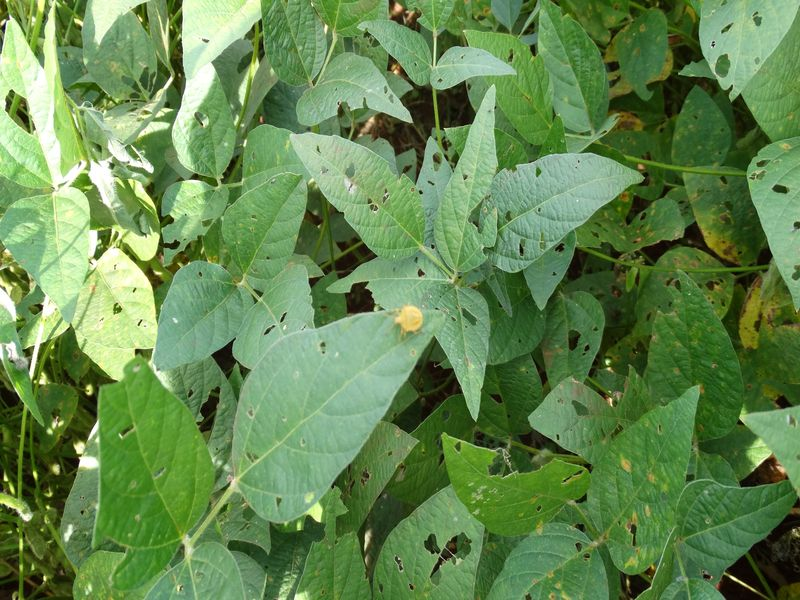Euschistus_heros_ninfa: (384, 298, 432, 344)
